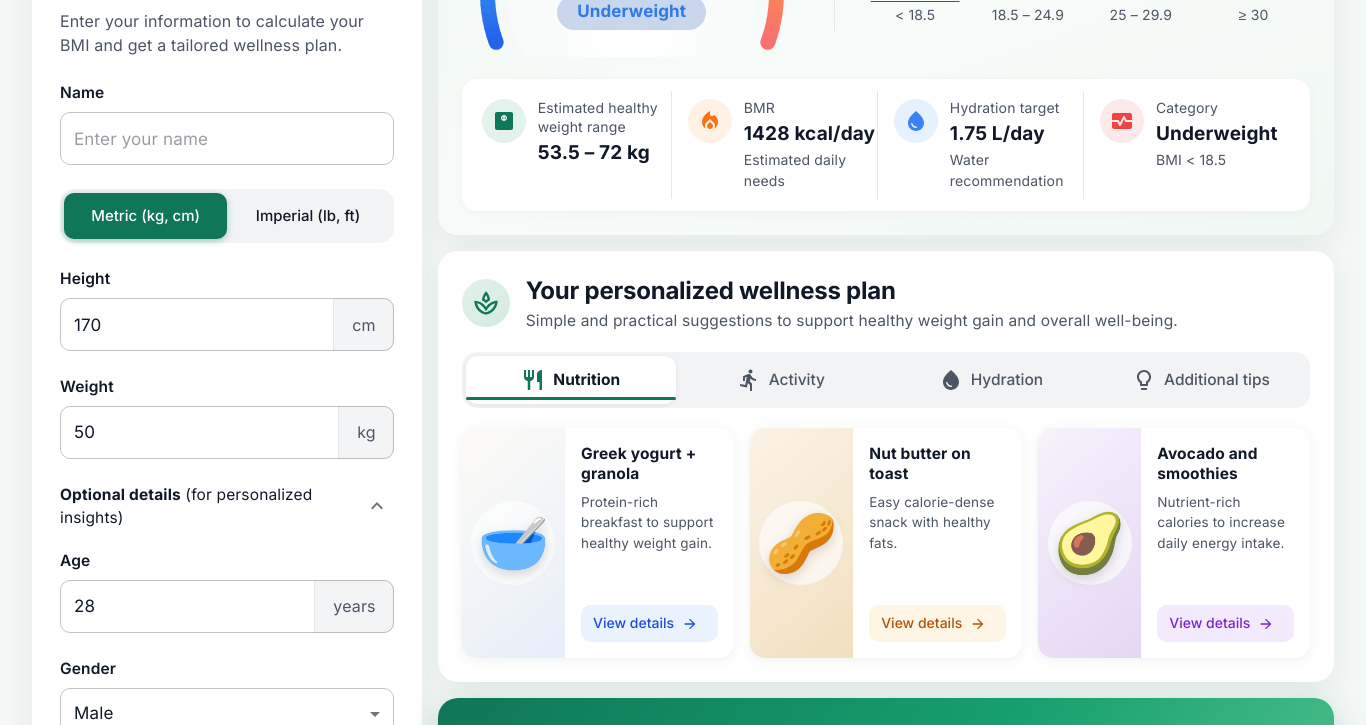
Test: BmiApp › keeps inactive tab panels rendered but hidden so the card height stays constant
This screenshot has width=1366, height=725.
(page scrolled)
Step 1. Click the tab "Activity" → [781, 380], box [676,356,886,404]
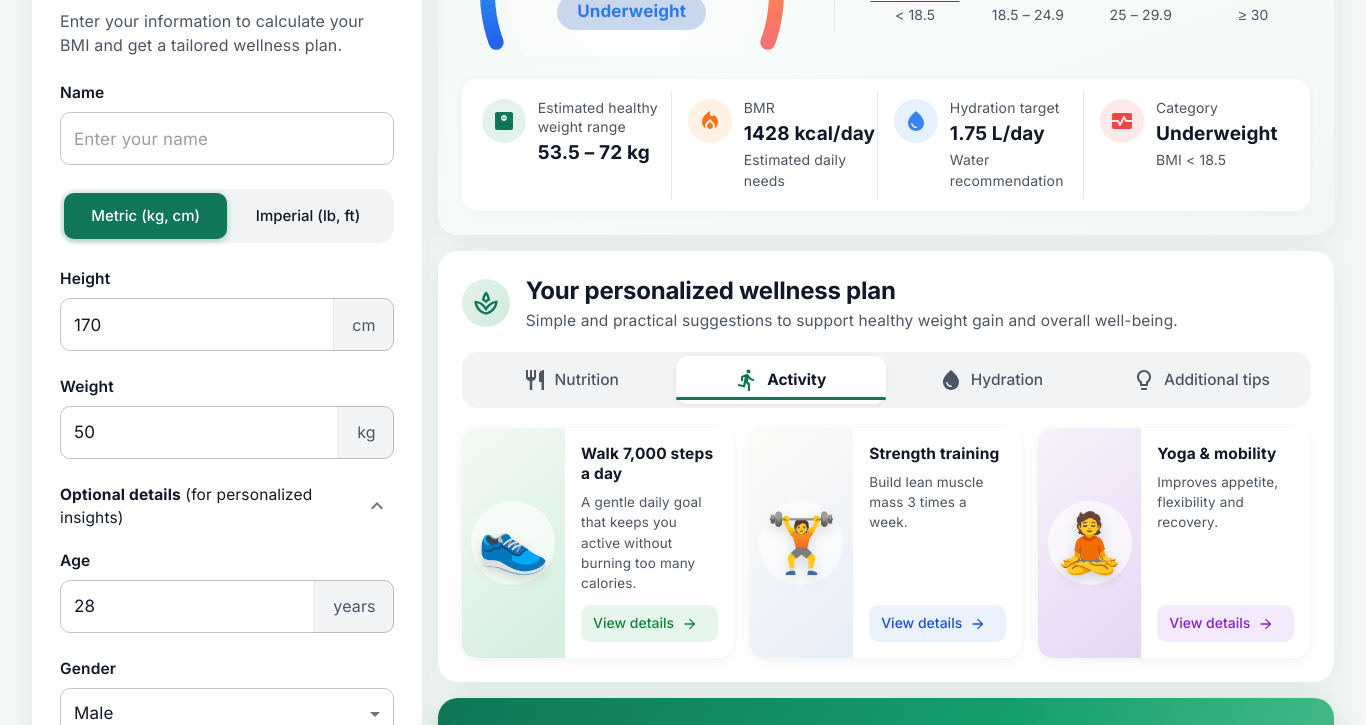
Check: the button with aria-label "View details: Walk 7,000 steps a day" is shown, box [581,605,718,642]
